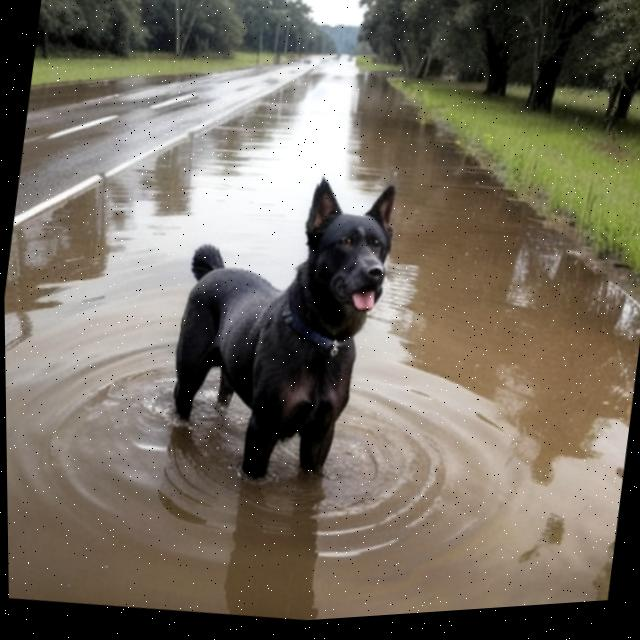dog: (129, 140, 436, 516)
